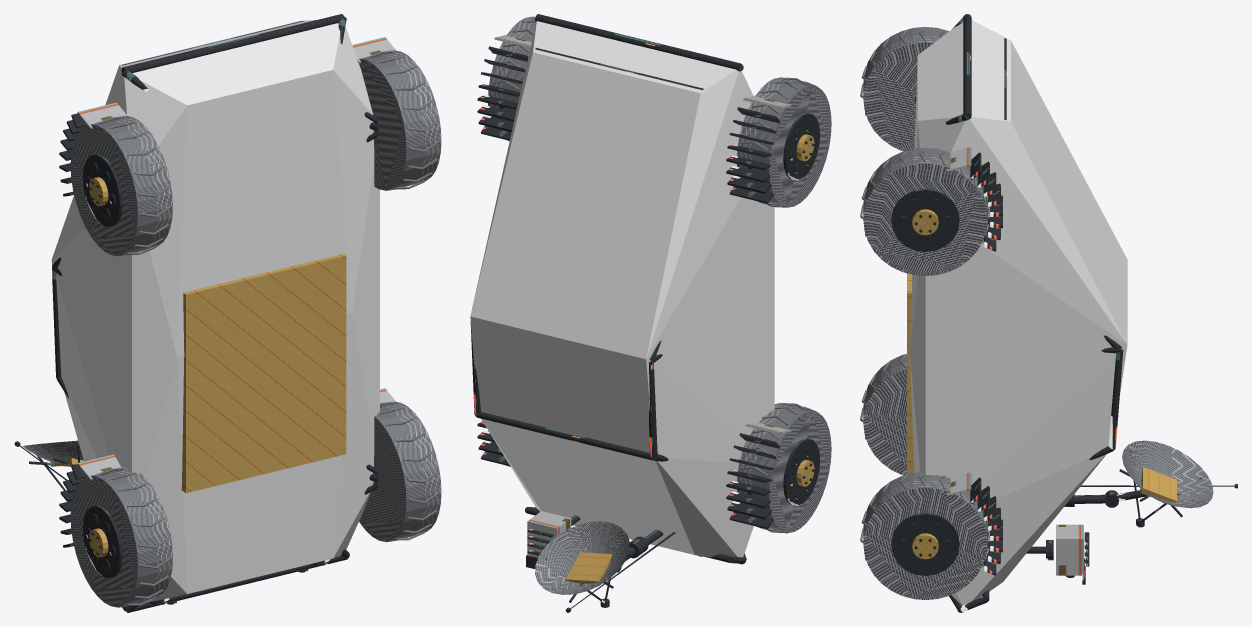
File: rover.glb
The picture shows the model from 3 angles, left to right: view 1: azimuth 30°, elevation 25°; view 2: azimuth 150°, elevation 25°; view 3: azimuth 270°, elevation 25°; orthographic projection. The views are drawn at different scales.
Parts seen in each view (by area): view 1: COL_chassis, Rover_LOD0; view 2: COL_chassis, Rover_LOD0; view 3: COL_chassis, Rover_LOD0.
Boxes of the visible parts, box(x1,y1,x2,y2) form: COL_chassis: box(51, 20, 379, 602); Rover_LOD0: box(14, 14, 441, 612); COL_chassis: box(470, 21, 774, 557); Rover_LOD0: box(470, 14, 831, 612); COL_chassis: box(910, 20, 1127, 605); Rover_LOD0: box(860, 14, 1237, 612).
Size of what is drawn, in the model's own units: 2.21 by 3.55 by 2.43.
Materials: 1 (1 with a texture image).
